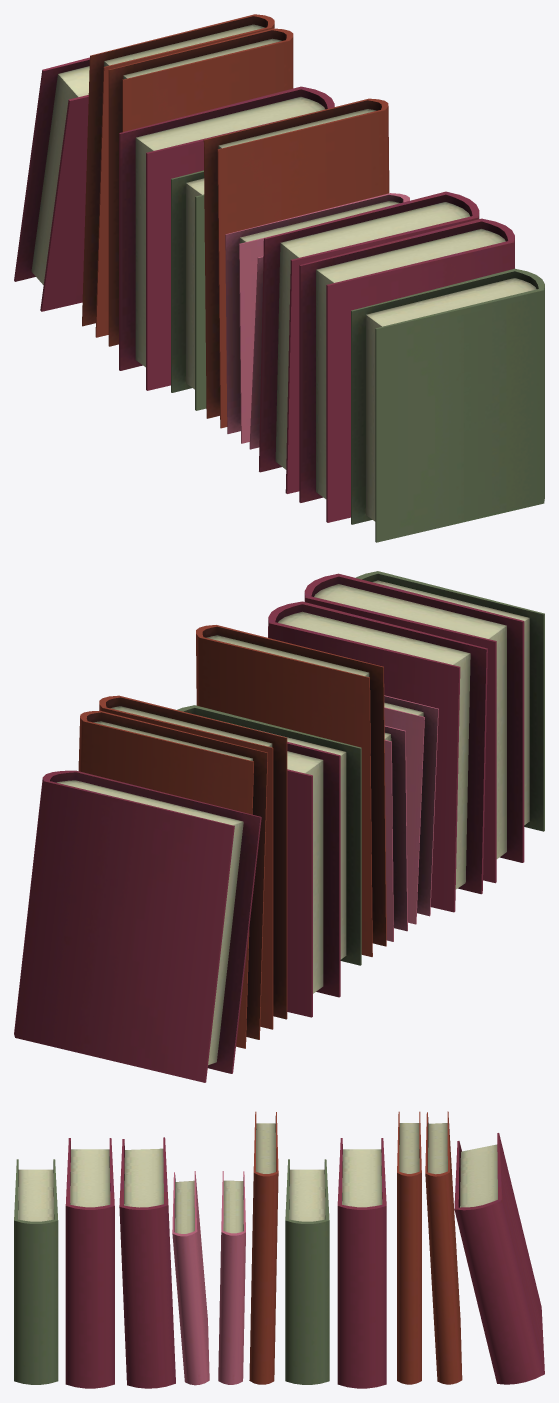
Rendered from book_row_wide_1.glb.
The picture shows the model from 3 angles, top to bottom: view 1: azimuth 30°, elevation 25°; view 2: azimuth 150°, elevation 25°; view 3: azimuth 270°, elevation 25°; orthographic projection. The views are drawn at different scales.
Visible parts, largest first — view 1: Book_Row_Wide_1.smd; view 2: Book_Row_Wide_1.smd; view 3: Book_Row_Wide_1.smd.
Boxes of the visible parts, x1,y1,x2,y2 form: Book_Row_Wide_1.smd: [14, 14, 544, 542]; Book_Row_Wide_1.smd: [14, 571, 544, 1082]; Book_Row_Wide_1.smd: [14, 1111, 544, 1388].
Bounding box in the file's own units: 0.2794 × 0.3839 × 0.8734.
Materials: 4 (4 with a texture image).
